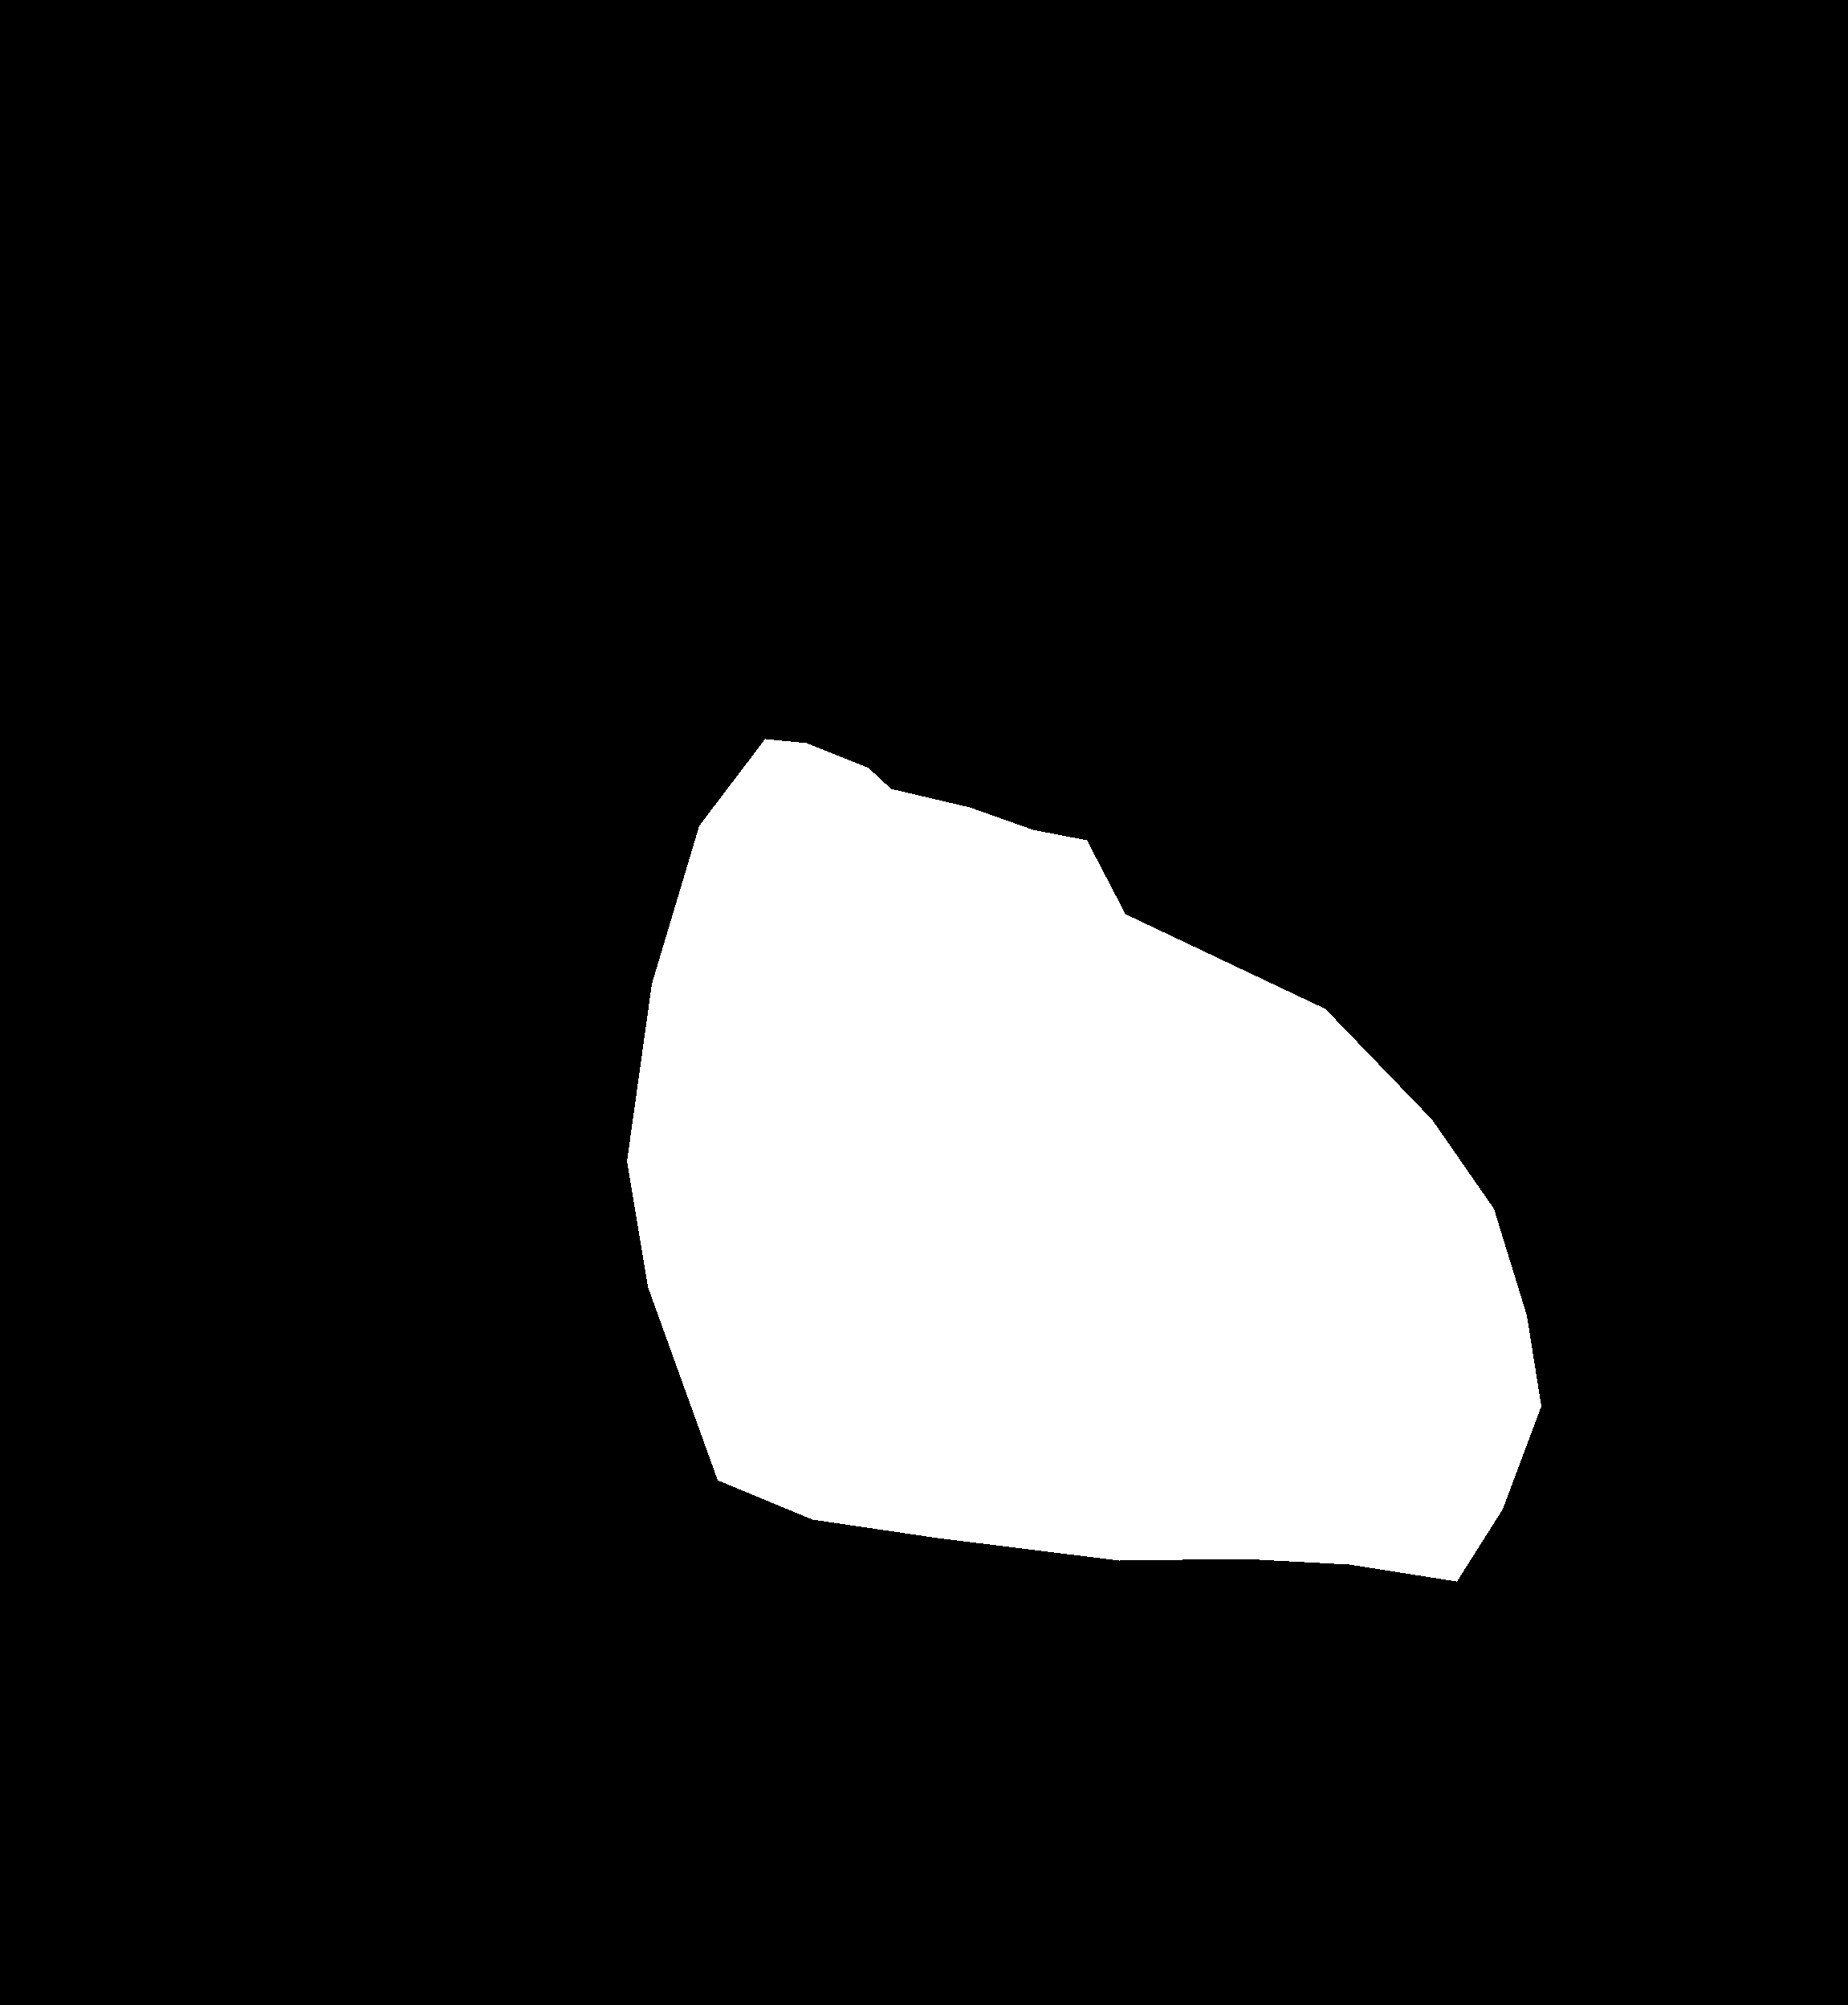heart: (627, 739, 1541, 1581)
left_lung: (168, 194, 769, 1720)
right_lung: (1024, 159, 1654, 1657)
